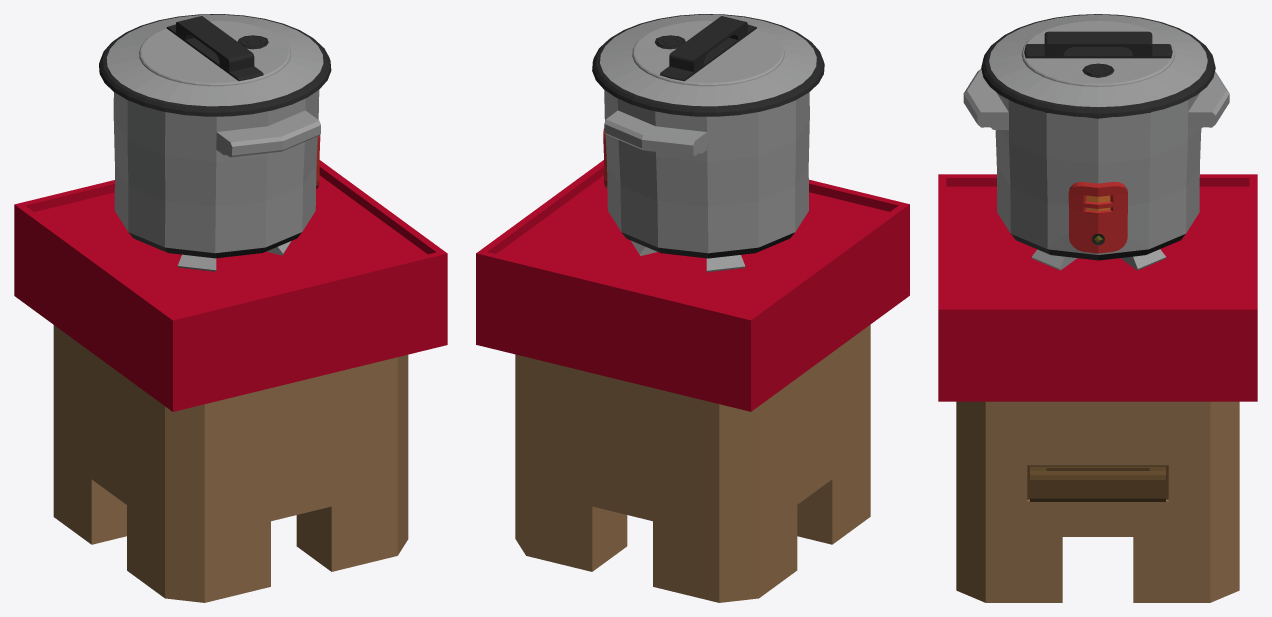
File: Rice_Cooker_Station.fbx
3 renders of one model, left to right at view 1: azimuth 30°, elevation 25°; view 2: azimuth 150°, elevation 25°; view 3: azimuth 270°, elevation 25°, orthographic.
Visible parts, largest first — view 1: Table, Rice Cooker, Cylinder; view 2: Table, Rice Cooker, Cylinder; view 3: Table, Rice Cooker, Cylinder.
Part boxes in pixels (box(x1,y1,x2,y2)): Table: box(14, 160, 447, 602); Rice Cooker: box(113, 90, 320, 271); Cylinder: box(99, 14, 331, 116); Table: box(476, 160, 909, 602); Rice Cooker: box(603, 90, 809, 272); Cylinder: box(592, 14, 824, 116); Table: box(938, 174, 1257, 602); Rice Cooker: box(963, 69, 1229, 270); Cylinder: box(981, 14, 1215, 117).
Size of the model in its own units: 199 by 341 by 199.
